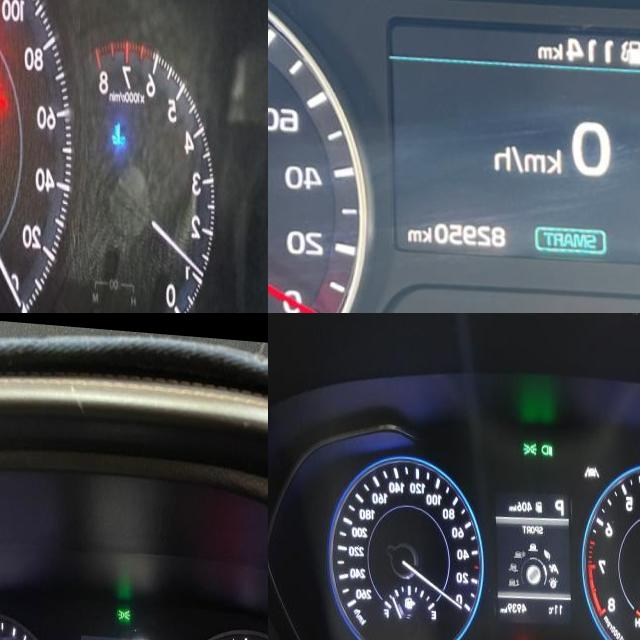Low beam: (542, 437, 554, 452)
SideLamp: (523, 436, 539, 451), (118, 603, 132, 616)
